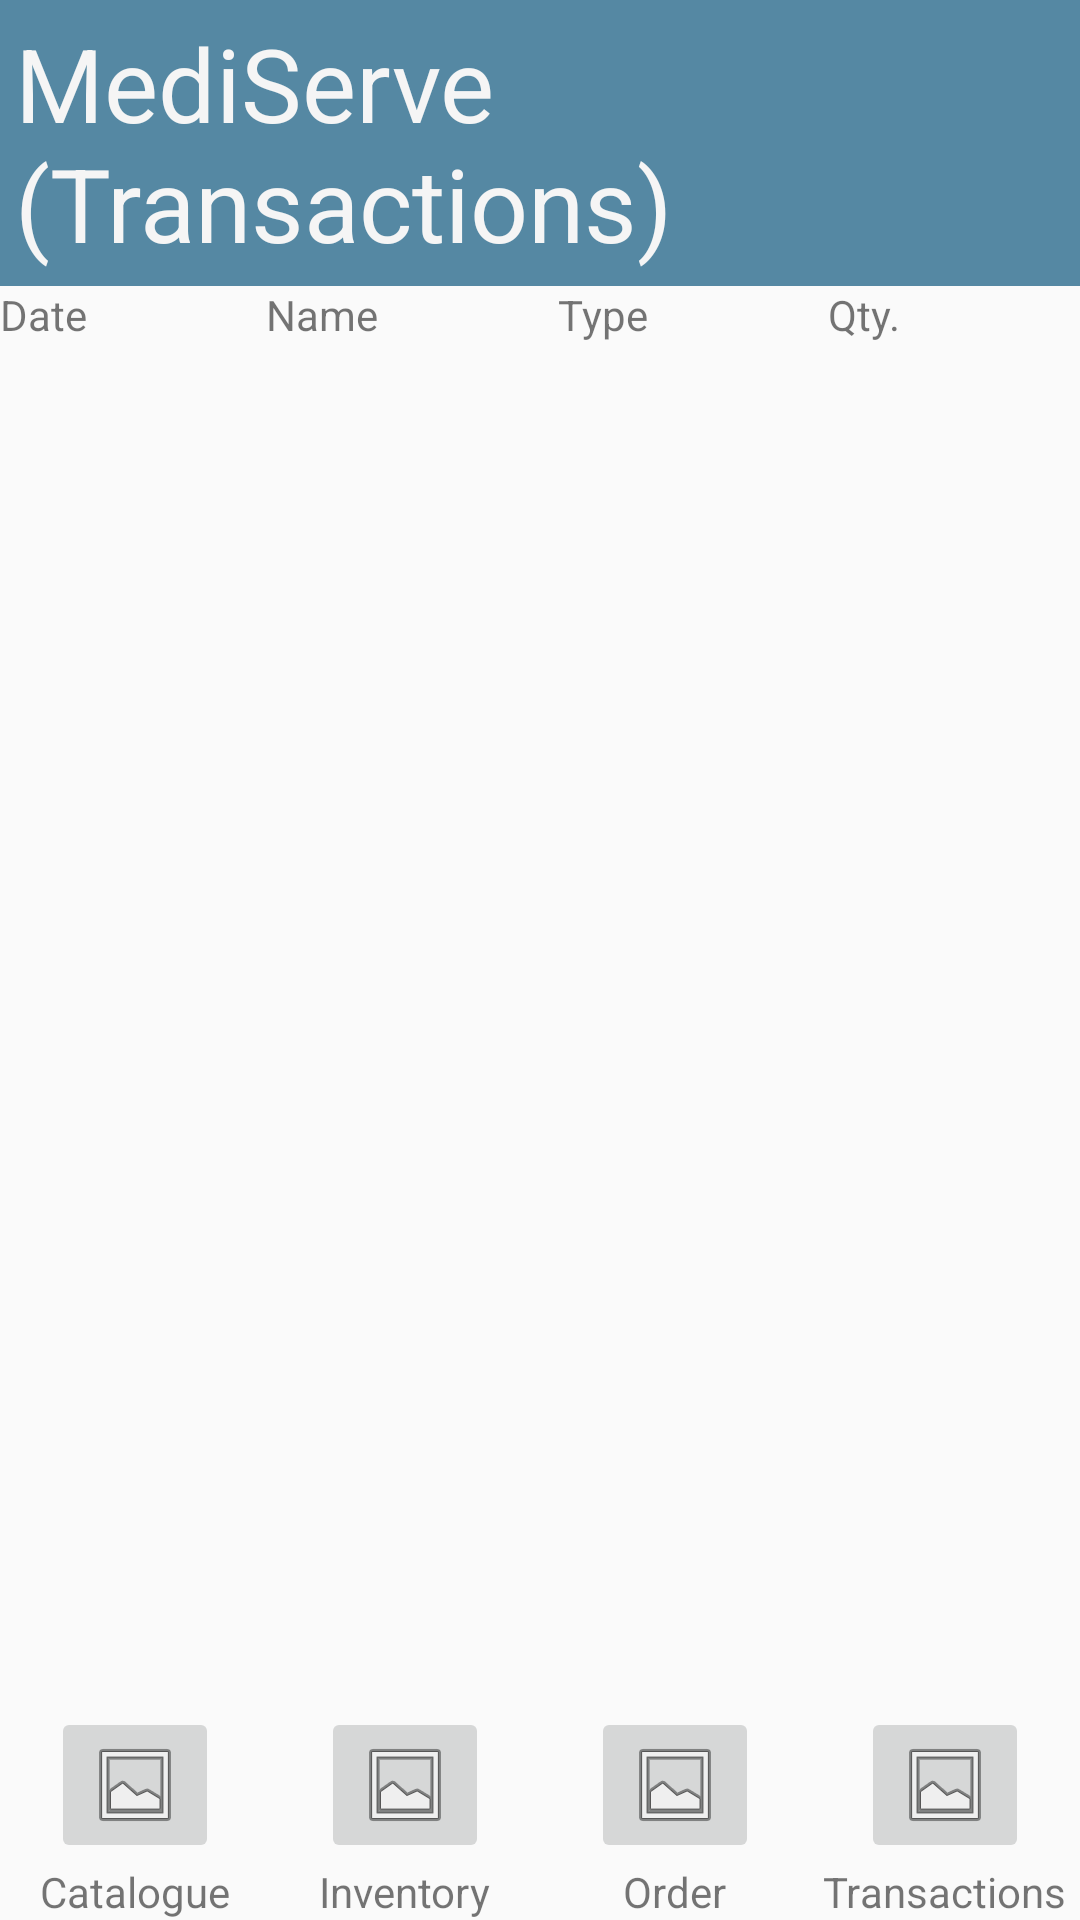

Icons on this 1080*1920 Android screen, each with its box as box(x1, y1, x2, y2):
gallery: box(63, 1725, 207, 1845), box(333, 1725, 477, 1845), box(603, 1725, 747, 1845), box(873, 1725, 1017, 1845)
